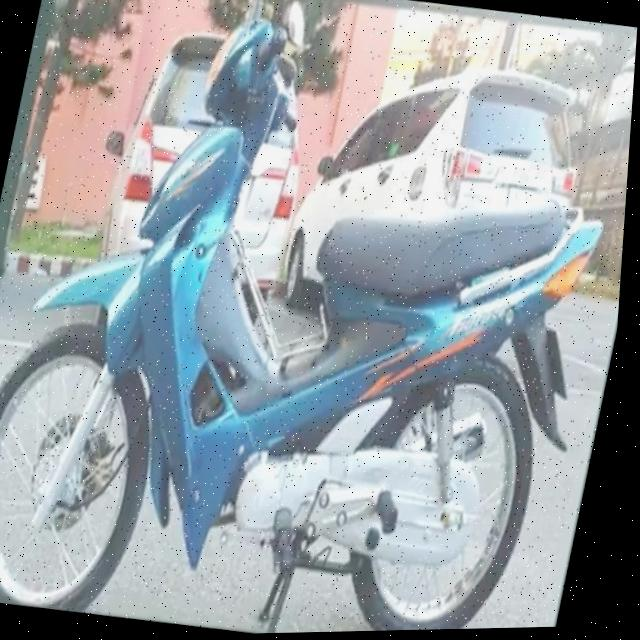car: (275, 39, 617, 349), (69, 7, 338, 336)
motorcycle: (0, 0, 640, 640)
